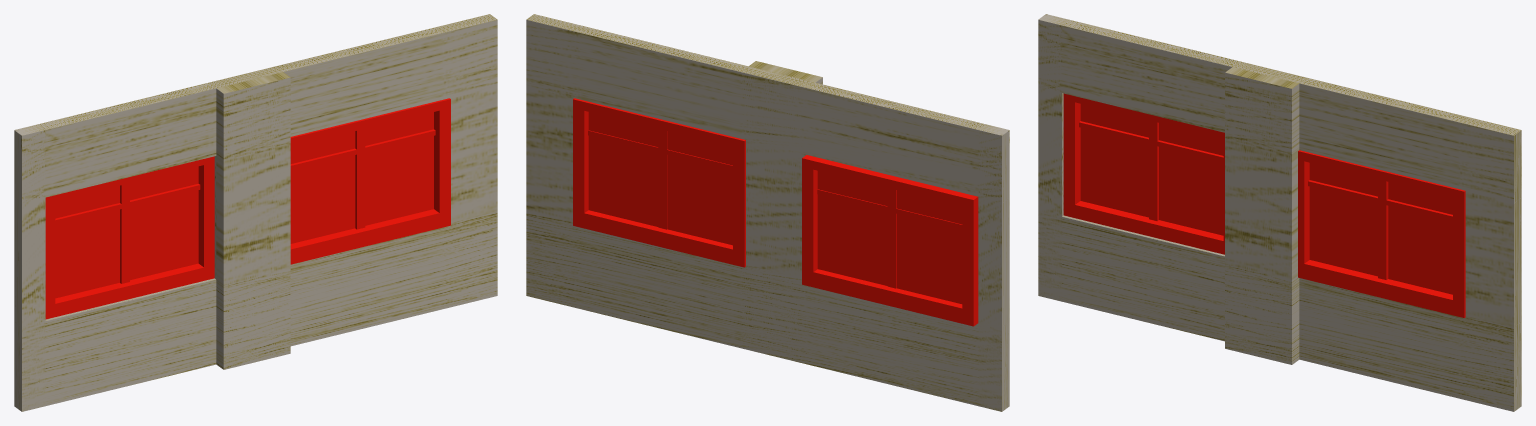
The model's file is ParedSM_ConVentanas.fbx.
The picture shows the model from 3 angles, left to right: view 1: azimuth 30°, elevation 25°; view 2: azimuth 150°, elevation 25°; view 3: azimuth 330°, elevation 25°; orthographic projection.
Parts seen in each view (by area): view 1: ParedSalaMaestros_Ventanas; view 2: ParedSalaMaestros_Ventanas; view 3: ParedSalaMaestros_Ventanas.
Boxes of the visible parts, bbox=[...] form: ParedSalaMaestros_Ventanas: bbox=[14, 14, 497, 411]; ParedSalaMaestros_Ventanas: bbox=[526, 14, 1009, 411]; ParedSalaMaestros_Ventanas: bbox=[1038, 14, 1521, 411].
Bounding box in the file's own units: 1624 × 901 × 117.
